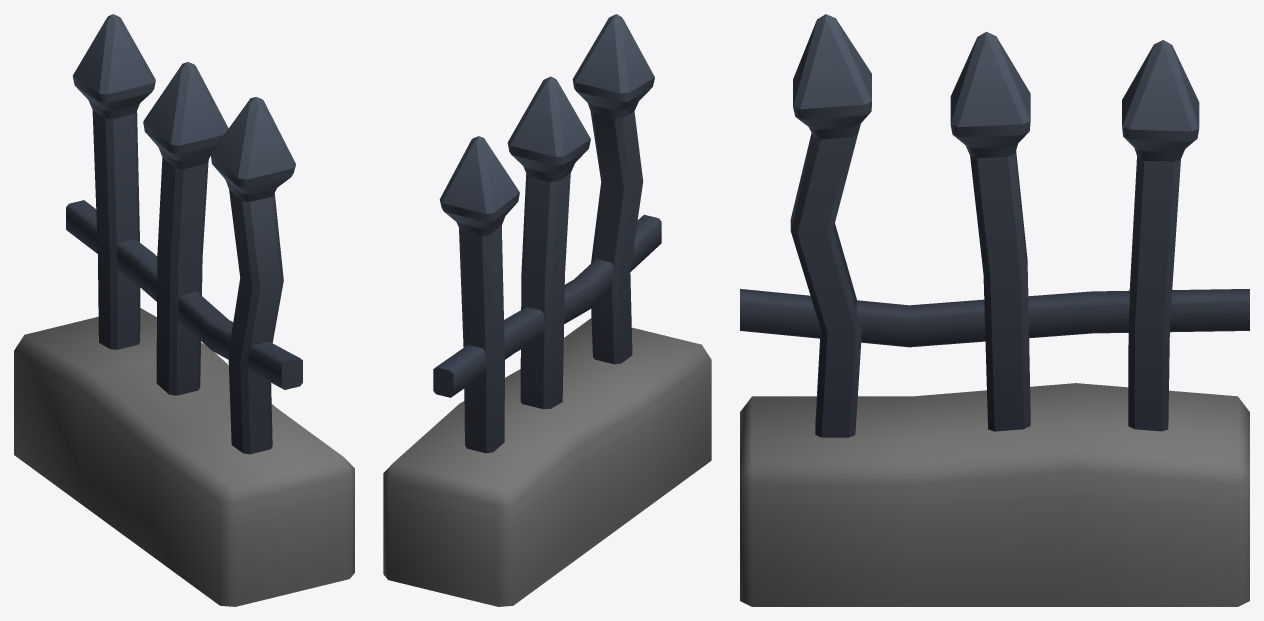
The model's file is Fence_3_1.obj.
The picture shows the model from 3 angles, left to right: view 1: azimuth 30°, elevation 25°; view 2: azimuth 150°, elevation 25°; view 3: azimuth 270°, elevation 25°; orthographic projection. The views are drawn at different scales.
Parts seen in each view (by area): view 1: Fence_3_1; view 2: Fence_3_1; view 3: Fence_3_1.
Boxes of the visible parts, x1,y1,x2,y2 form: Fence_3_1: [14, 14, 354, 606]; Fence_3_1: [383, 14, 711, 606]; Fence_3_1: [740, 14, 1249, 606].
Size of the model in its own units: 0.3514 by 1.17 by 0.9745.
